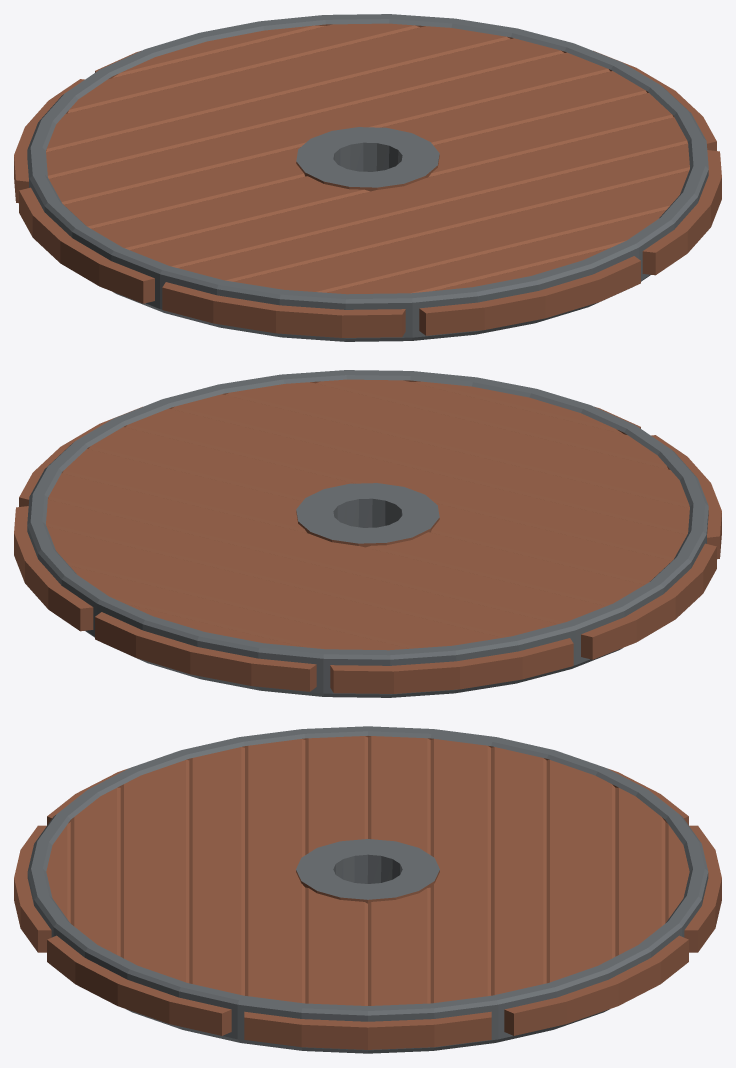
The model's file is LightWoodFloorLargeCircularPlatform1.fbx.
3 views of the same model, one above another, from view 1: azimuth 30°, elevation 25°; view 2: azimuth 150°, elevation 25°; view 3: azimuth 270°, elevation 25° (orthographic).
Parts seen in each view (by area): view 1: LightWoodFloorLargeCircularPlatform1; view 2: LightWoodFloorLargeCircularPlatform1; view 3: LightWoodFloorLargeCircularPlatform1.
Boxes of the visible parts, x1,y1,x2,y2 form: LightWoodFloorLargeCircularPlatform1: (14,14,721,341); LightWoodFloorLargeCircularPlatform1: (14,370,721,697); LightWoodFloorLargeCircularPlatform1: (14,726,721,1053).
Size of the model in its own units: 520 by 45.68 by 520.
